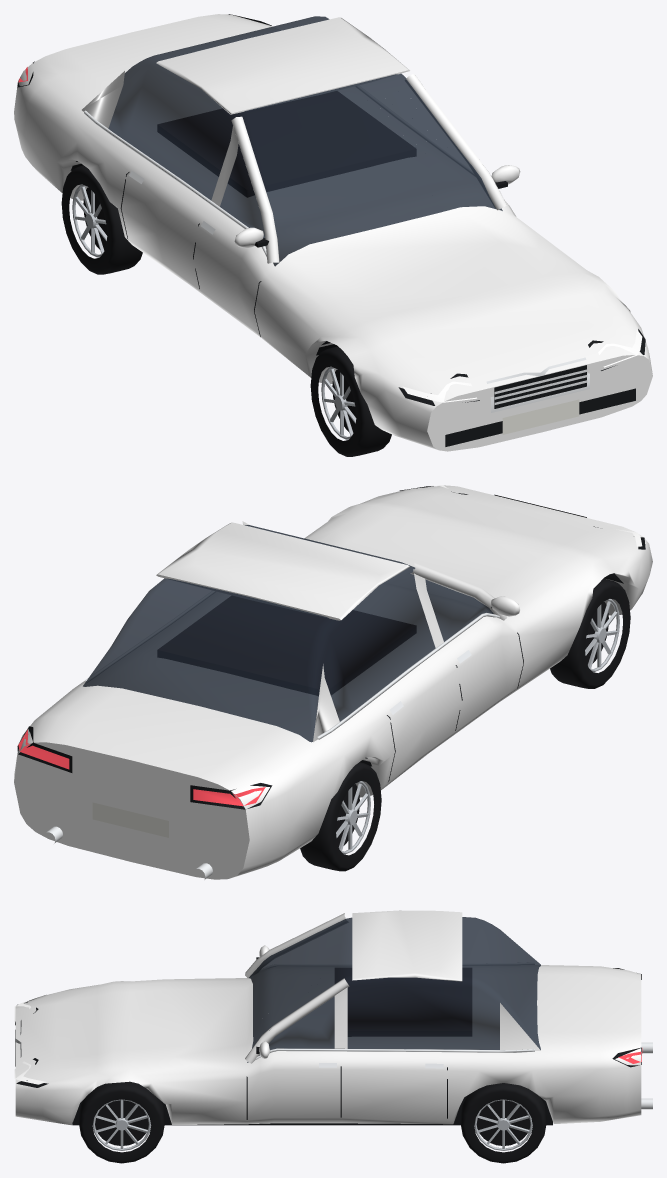
Rendered from velora_serene.lod.glb.
3 renders of one model, top to bottom at view 1: azimuth 30°, elevation 25°; view 2: azimuth 150°, elevation 25°; view 3: azimuth 270°, elevation 25°, orthographic. The views are drawn at different scales.
Parts seen in each view (by area): view 1: body_paint, body_glass, body_trim, tire (×2), door_glass, body_chrome, rim (×2), headlights; view 2: body_paint, body_glass, body_trim, tire (×2), rim (×2), body_chrome, taillights; view 3: body_paint, body_glass, body_trim, door_paint, tire (×2), door_glass, rim_back (×2), rim (×2), body_chrome.
Boxes of the visible parts, x1,y1,x2,y2 form: body_paint: (14,14,652,451); body_glass: (108,16,451,266); body_trim: (17,14,645,446); tire (×2): (61,165,391,456); door_glass: (370,89,502,212); body_chrome: (84,86,589,412); rim (×2): (72,184,356,440); headlights: (402,329,642,402); body_paint: (14,485,652,879); body_glass: (83,525,493,742); body_trim: (17,486,645,837); tire (×2): (300,578,630,871); rim (×2): (336,599,619,854); body_chrome: (46,591,499,879); taillights: (18,729,265,806); body_paint: (15,910,641,1125); body_glass: (249,917,540,1049); body_trim: (15,957,641,1125); door_paint: (246,985,341,1124); tire (×2): (79,1081,546,1163); door_glass: (247,968,336,1062); rim_back (×2): (95,1100,530,1145); rim (×2): (92,1099,532,1150); body_chrome: (15,963,652,1109).
Bounding box in the file's own units: 1.94 × 1.46 × 4.9.
